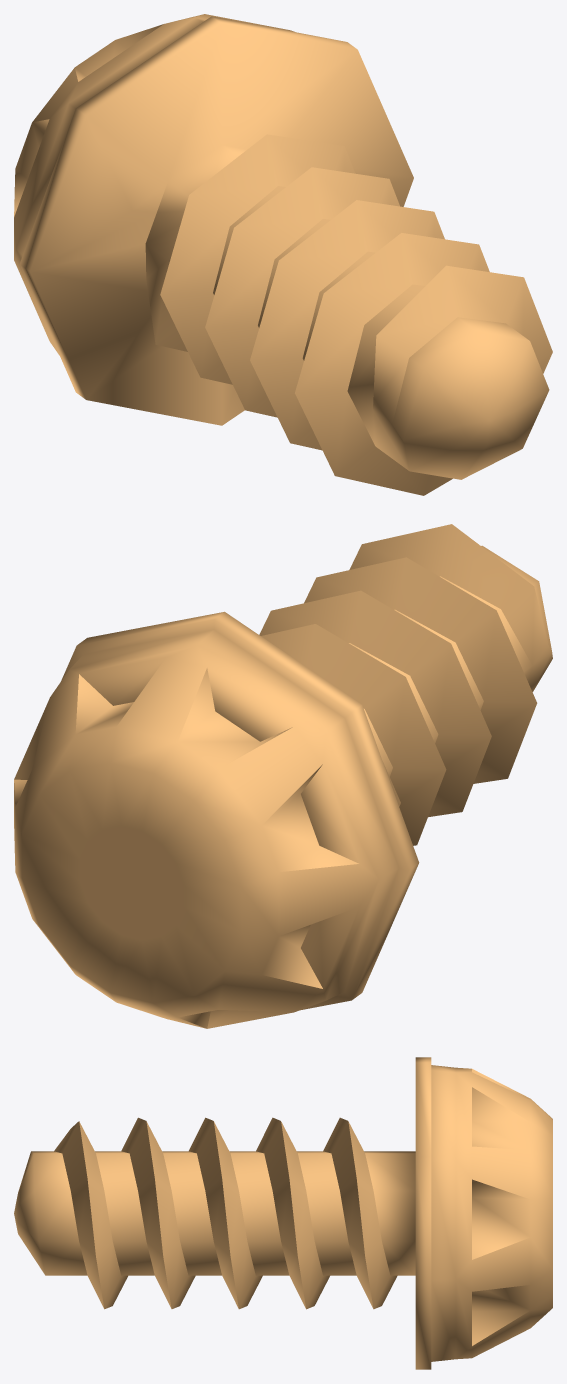
The model's file is screw.glb.
3 renders of one model, top to bottom at view 1: azimuth 30°, elevation 25°; view 2: azimuth 150°, elevation 25°; view 3: azimuth 270°, elevation 25°, orthographic. The views are drawn at different scales.
Parts seen in each view (by area): view 1: screw002; view 2: screw002; view 3: screw002.
Part boxes in pixels (x1,y1,x2,y2): screw002: (14, 14, 552, 495); screw002: (14, 524, 552, 1028); screw002: (14, 1057, 552, 1369).
Size of the model in its own units: 0.4549 by 0.4549 by 0.737.
1 material, 1 textured.
